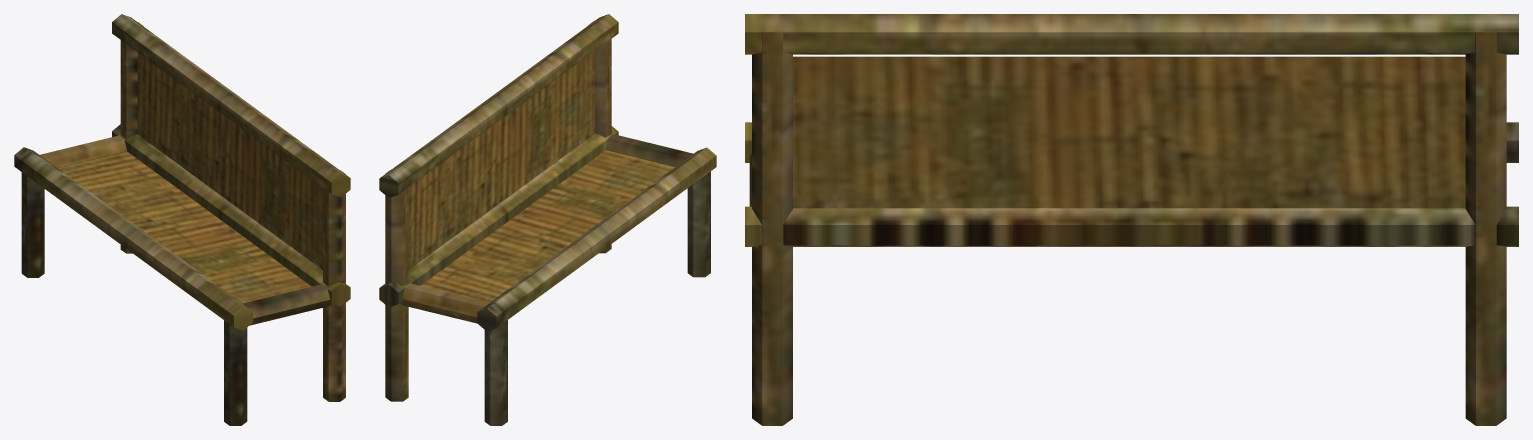
File: Bench.fbx
3 views of the same model, side by side, from view 1: azimuth 30°, elevation 25°; view 2: azimuth 150°, elevation 25°; view 3: azimuth 270°, elevation 25° (orthographic). The views are drawn at different scales.
Parts seen in each view (by area): view 1: Cylinder; view 2: Cylinder; view 3: Cylinder.
Part boxes in pixels (bbox=[...]): Cylinder: bbox=[14, 14, 350, 425]; Cylinder: bbox=[379, 14, 716, 425]; Cylinder: bbox=[745, 14, 1518, 425].
Bounding box in the file's own units: 0.849 × 2.75 × 1.58.
Materials: 1 (1 with a texture image).
